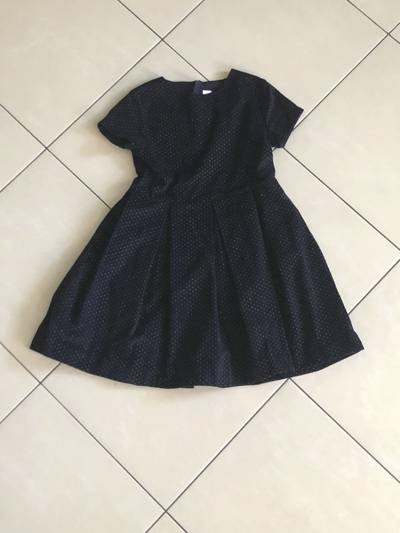Dress: (38, 43, 364, 409)
